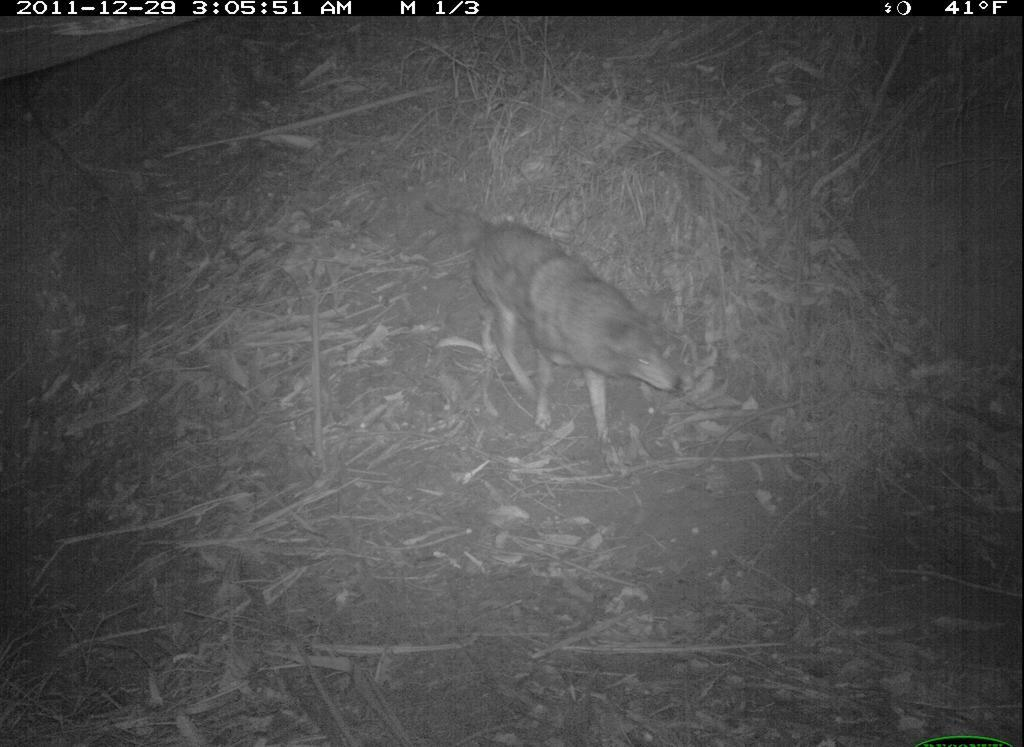coyote: (452, 213, 683, 442)
